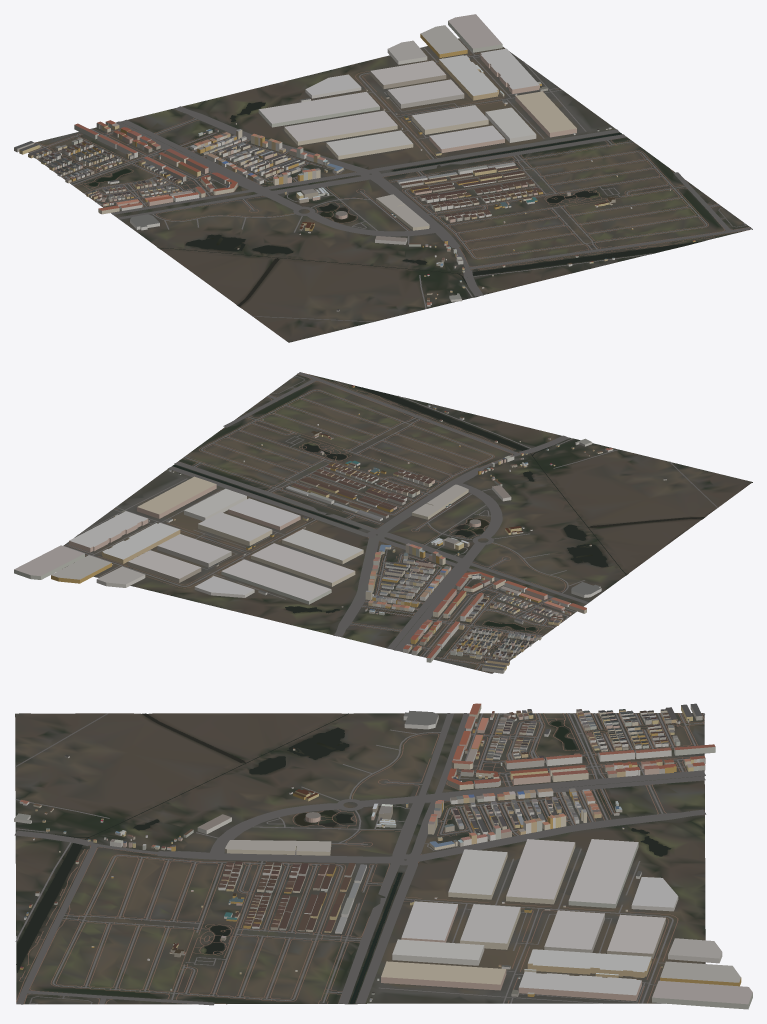
3 renders of one model, top to bottom at view 1: azimuth 30°, elevation 25°; view 2: azimuth 150°, elevation 25°; view 3: azimuth 270°, elevation 25°, orthographic. The views are drawn at different scales.
Visible parts, largest first — view 1: ground, buildings, roads, water; view 2: ground, buildings, roads, water; view 3: ground, buildings, roads, water.
Boxes of the visible parts, box(x1,y1,x2,y2) form: ground: box(28, 38, 752, 342); buildings: box(14, 14, 695, 311); roads: box(28, 38, 752, 322); water: box(89, 102, 702, 306); ground: box(64, 374, 752, 673); buildings: box(14, 385, 666, 673); roads: box(63, 372, 717, 673); water: box(172, 384, 704, 630); ground: box(15, 713, 705, 1004); buildings: box(14, 703, 752, 1009); roads: box(14, 713, 706, 1005); water: box(16, 713, 671, 1003).
Size of the model in its own units: 1452 by 30.63 by 1503.
